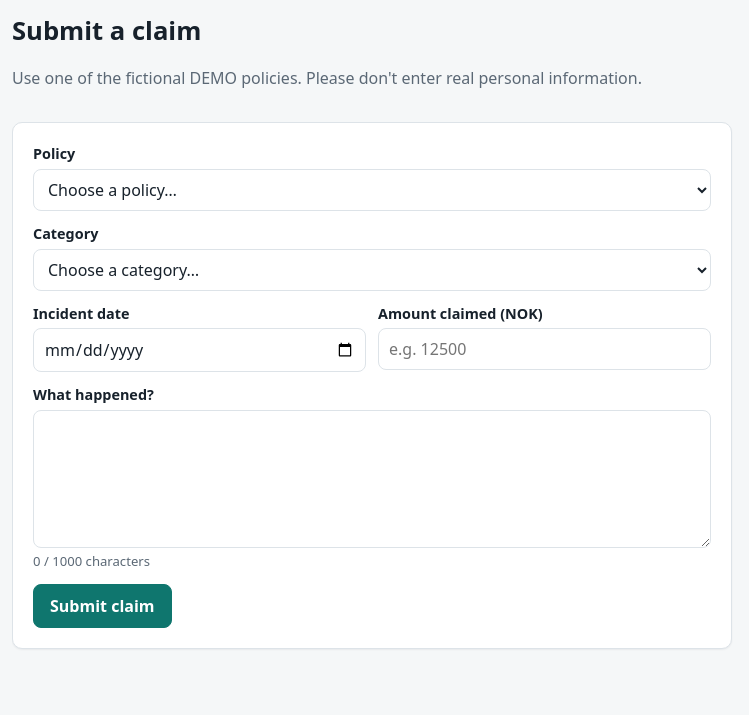
Test case: NewClaimForm › shows the API validation errors next to the matching fields
Select "DEMO-POL-1001 · Motor · Fictional Customer A" in the dropdown labelled "Policy": [372, 190] box [33, 169, 711, 211]
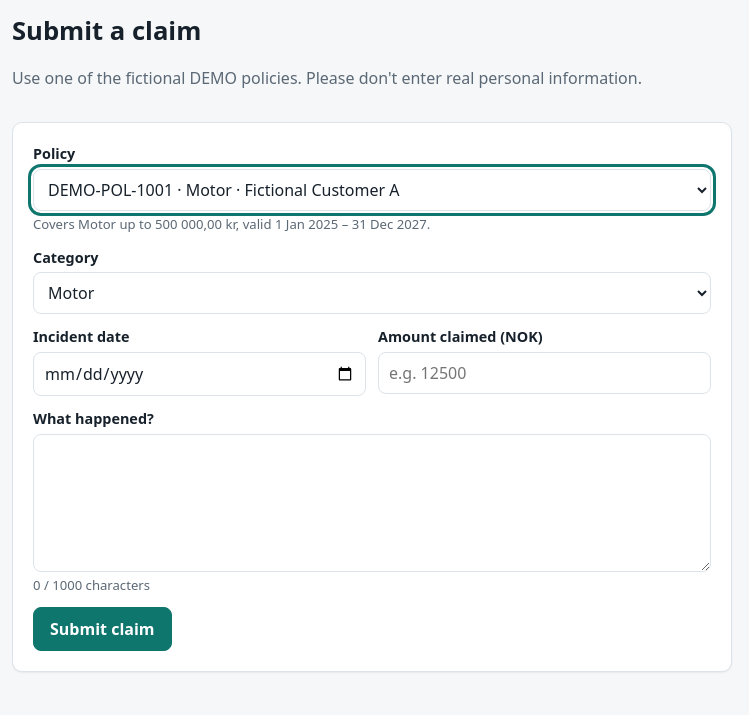
In the date field labelled "Incident date": [200, 374] box [33, 352, 366, 396], type "2026-01-10"
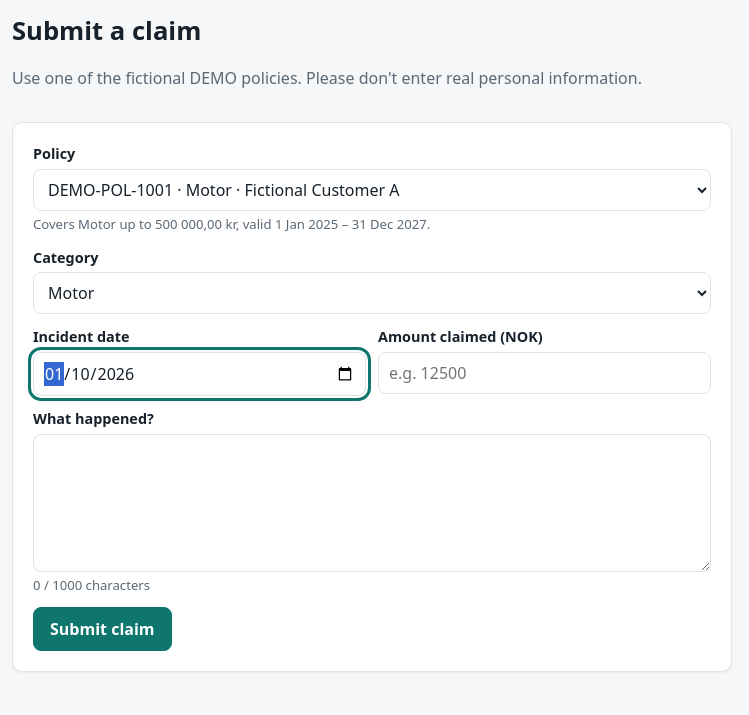
In the field labelled "Amount claimed (NOK)": [544, 373] box [378, 352, 711, 394], type "1000"
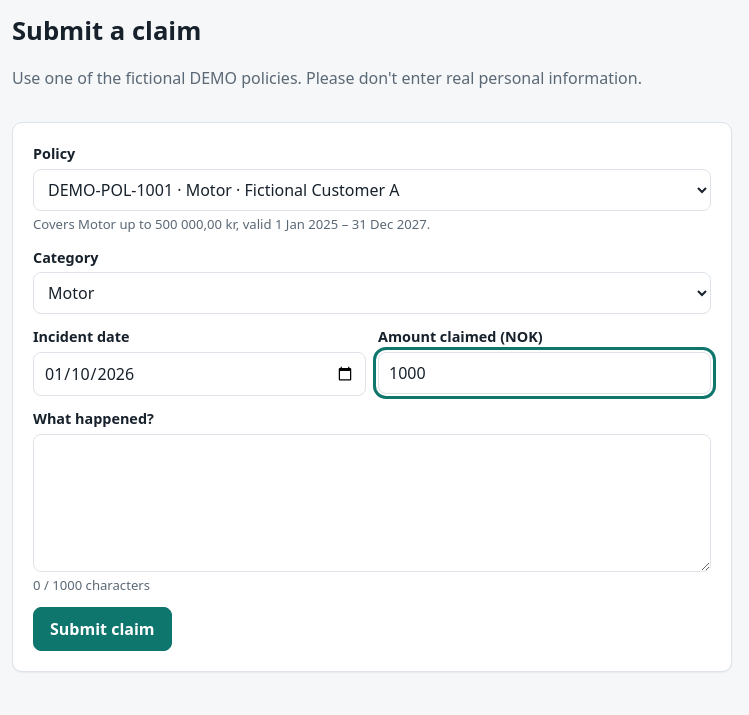
In the text box labelled "What happened?": [372, 502] box [33, 434, 711, 572], type "Something happened to the car"
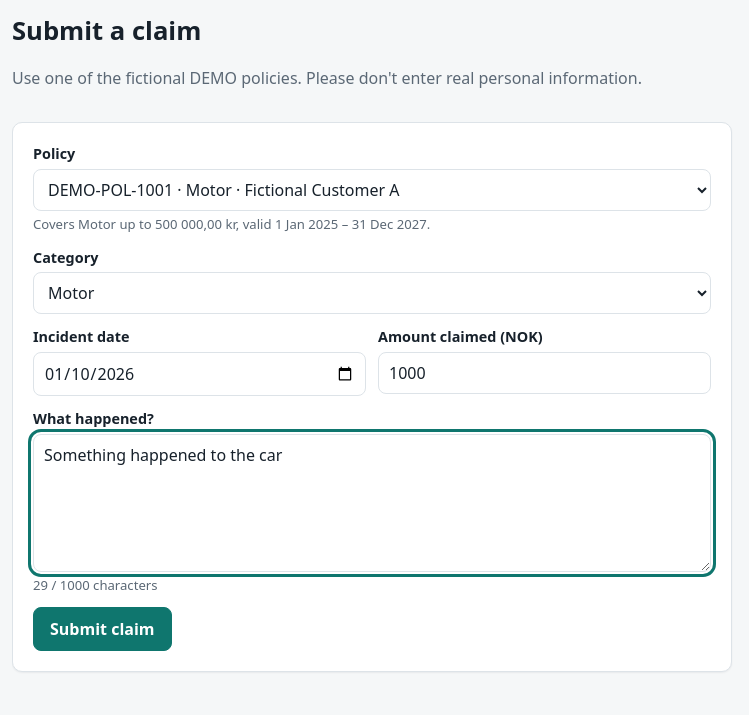
Click the button "Submit claim": [102, 629] box [33, 607, 172, 651]
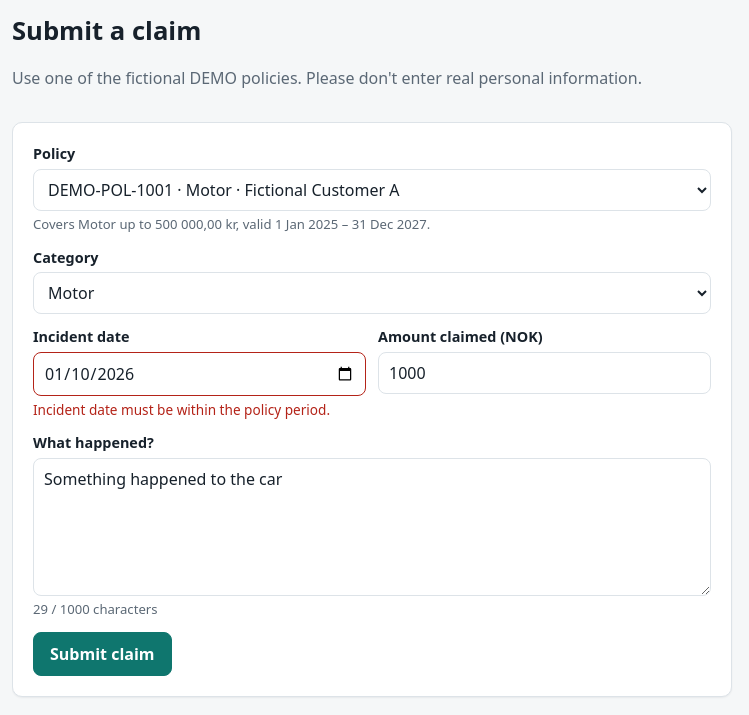
Result: the text "Incident date must be within the policy period." is shown at [33, 400, 366, 420]
